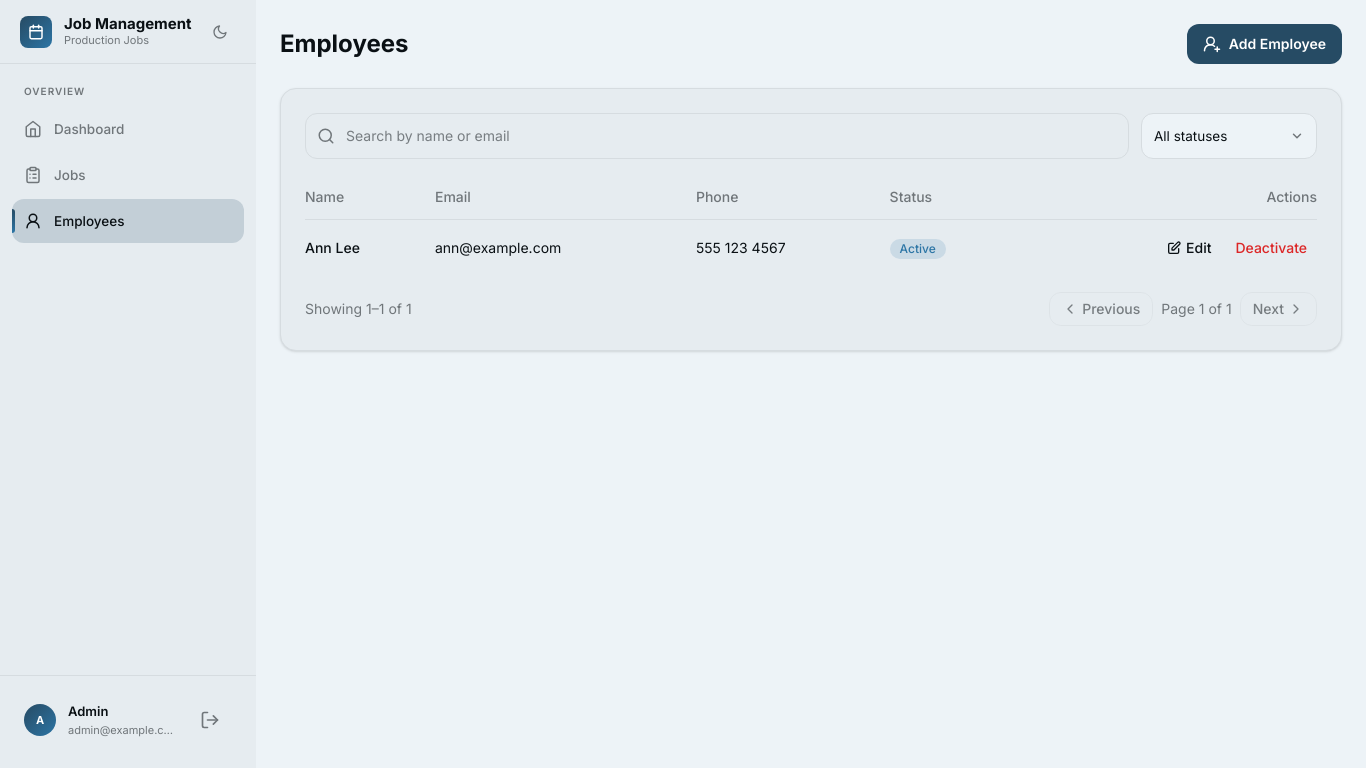
Scenario: add and edit employee › closes the dialog with Escape and with Cancel without saving
The width and height of the screenshot is (1366, 768).
Click the button "Add Employee".
click(1264, 44)  # box [1187, 24, 1342, 64]
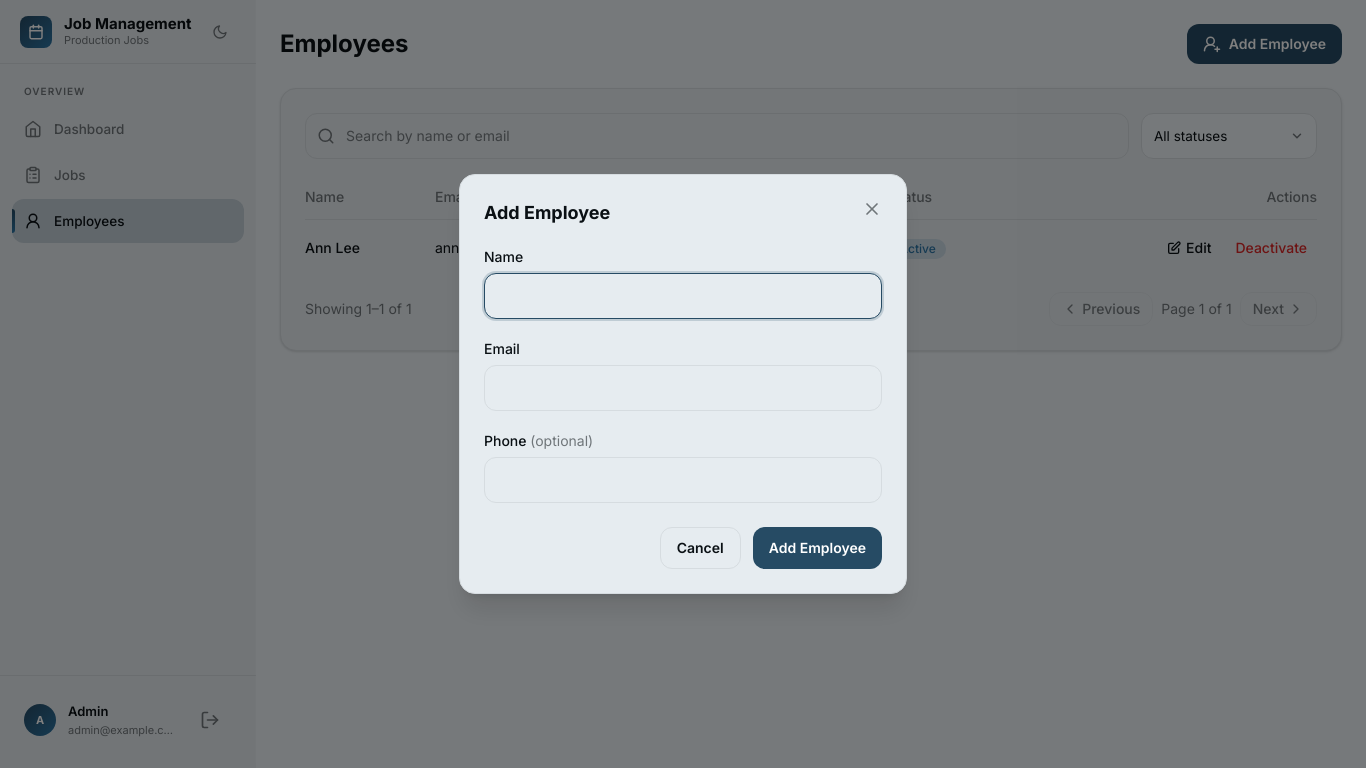
Check: the dialog is shown, box [459, 174, 907, 594]
Press Escape
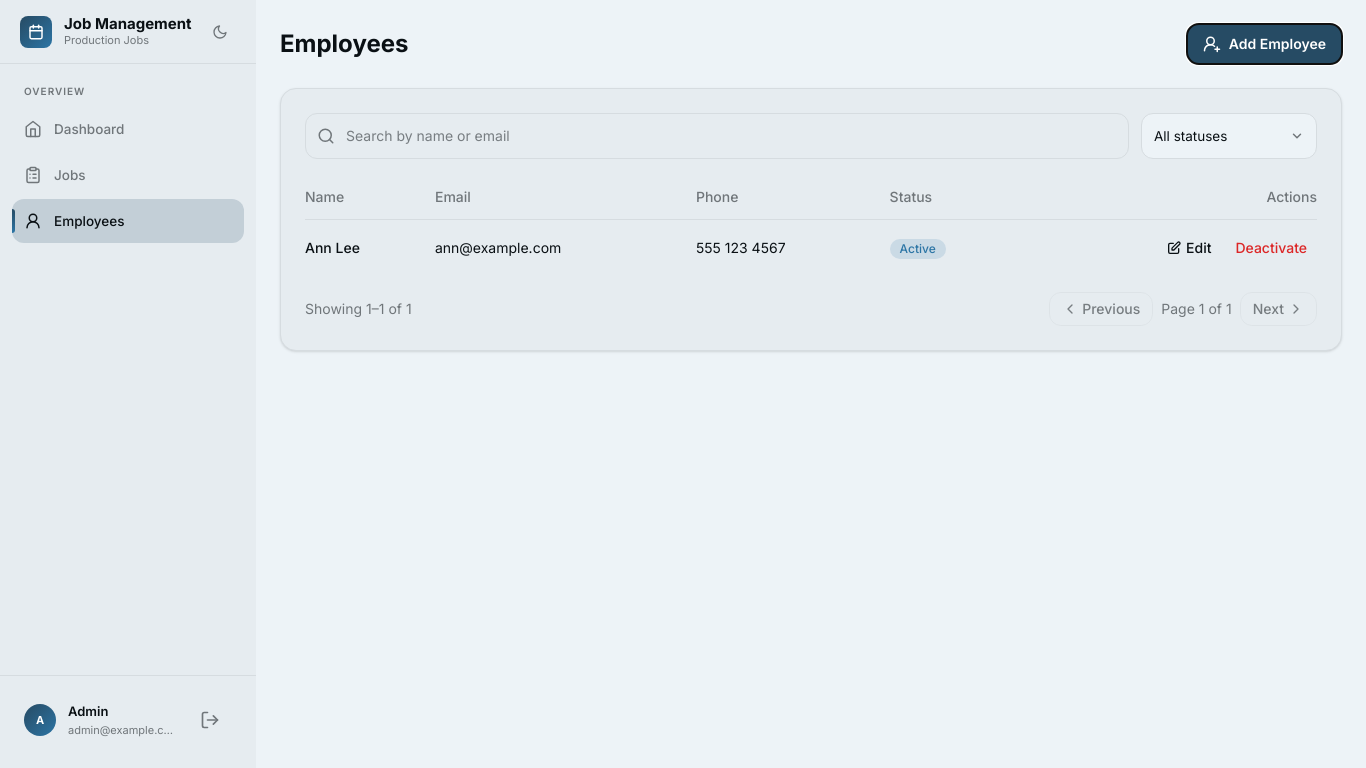
Check: the dialog is gone
Click the button with aria-label "Edit Ann Lee".
click(1189, 248)  # box [1156, 232, 1222, 264]
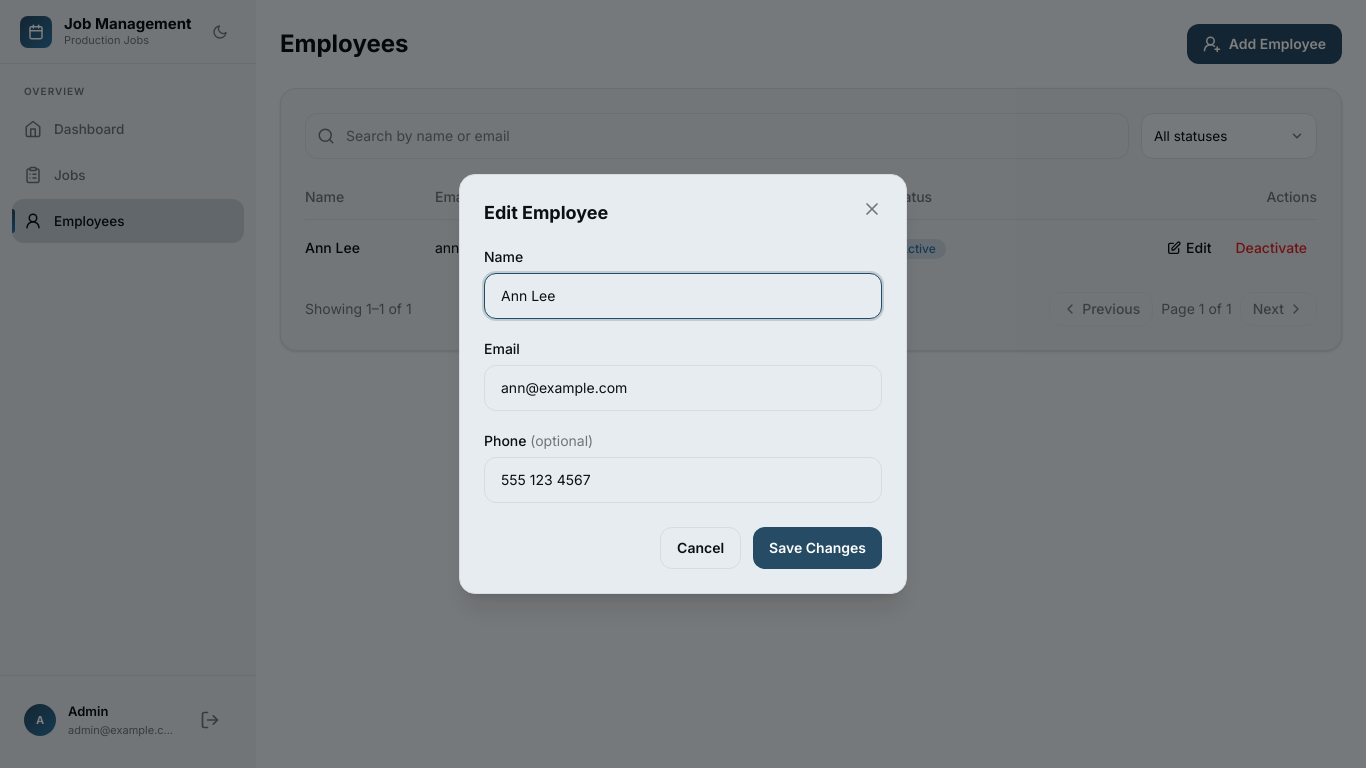
Click the button "Cancel".
click(701, 548)  # box [660, 527, 741, 569]
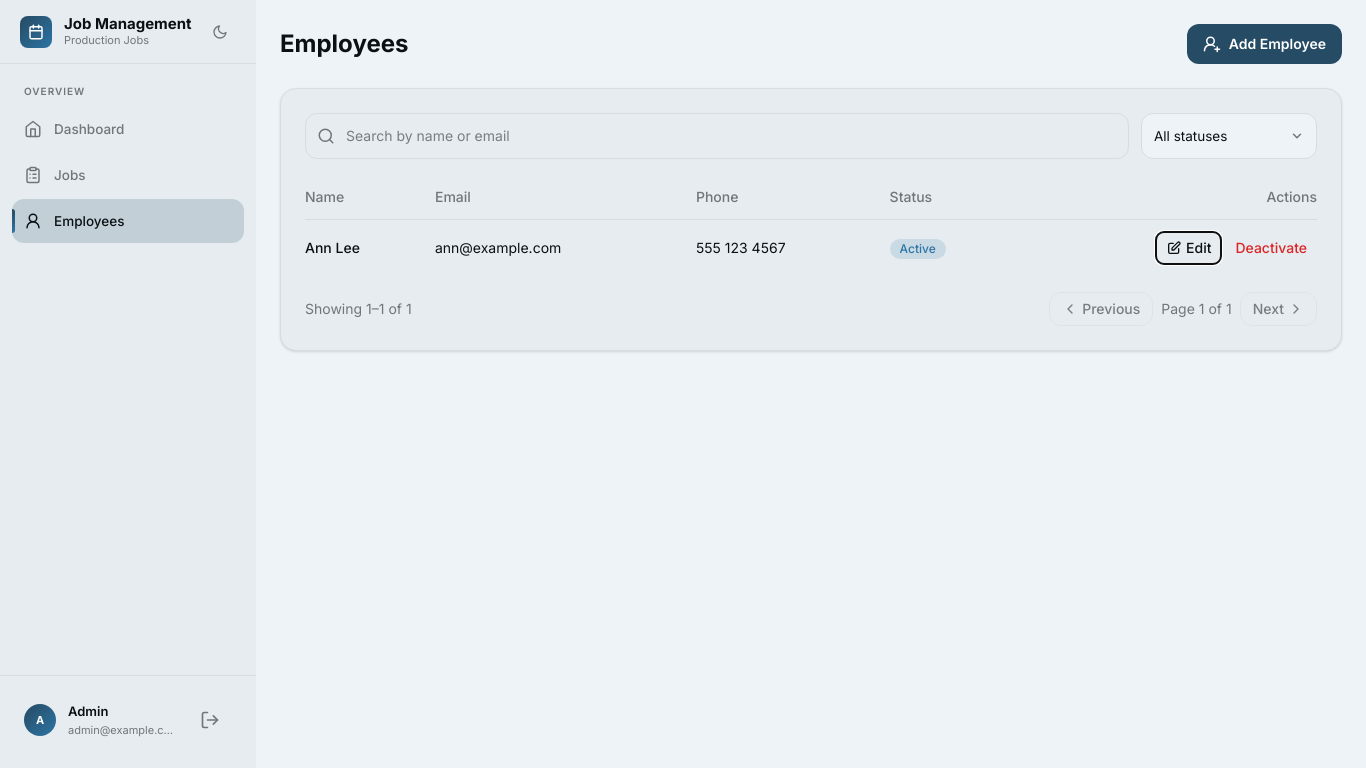
Check: the dialog is gone
